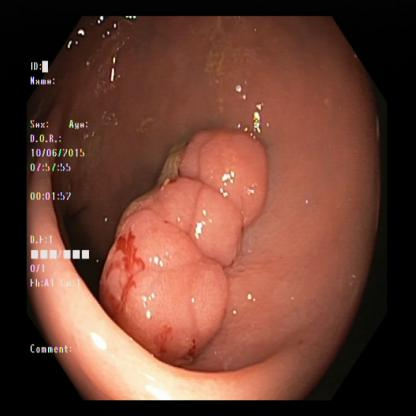Labels: (30, 56, 93, 362)
Polyps: (123, 135, 265, 346)
